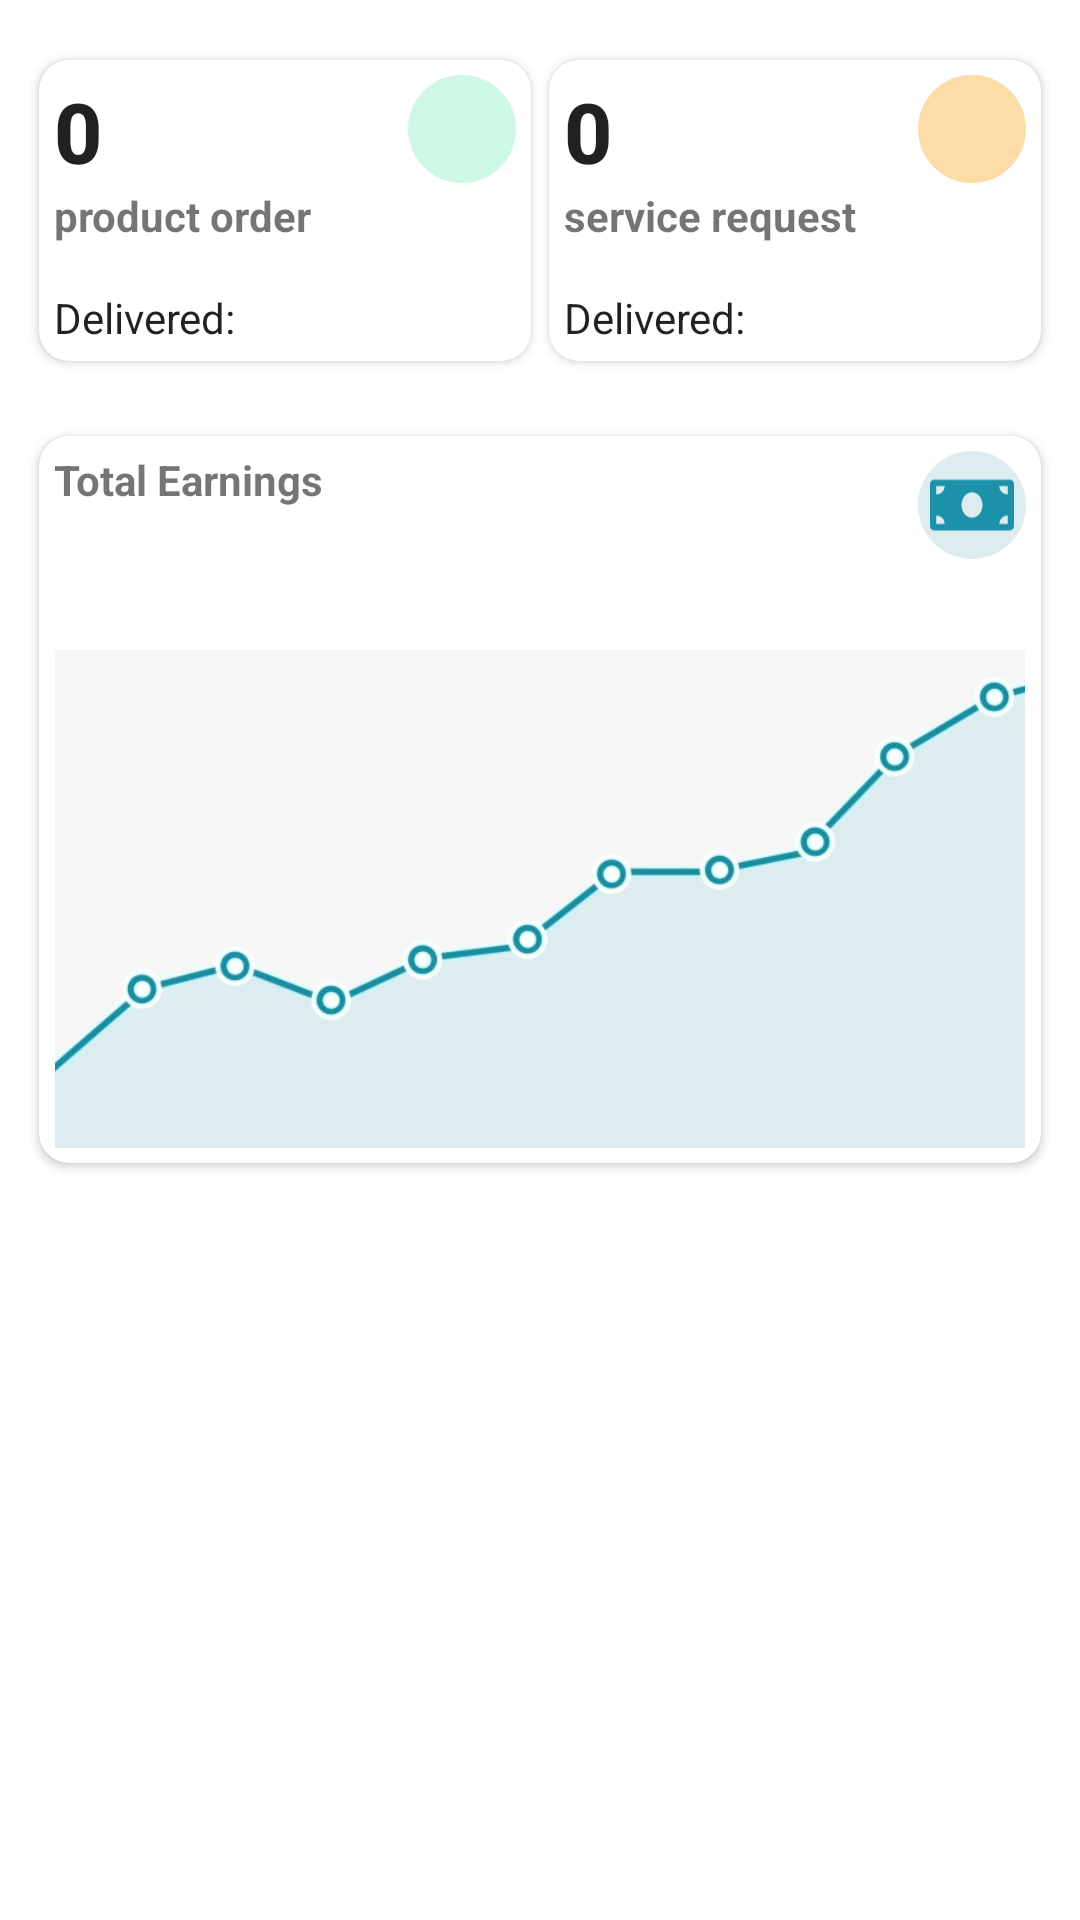

Icon click points for this 1080*1920 phone screenshot, format (x=x, y=y):
money bill: (x=972, y=505)
